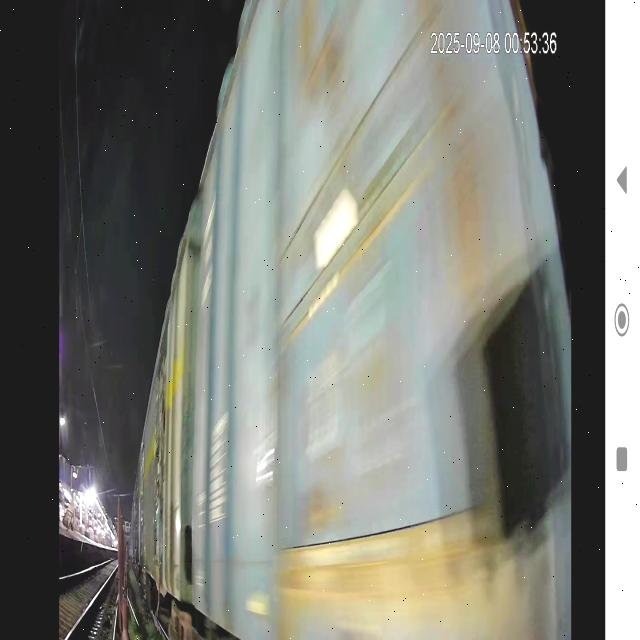coach: (200, 0, 621, 640)
